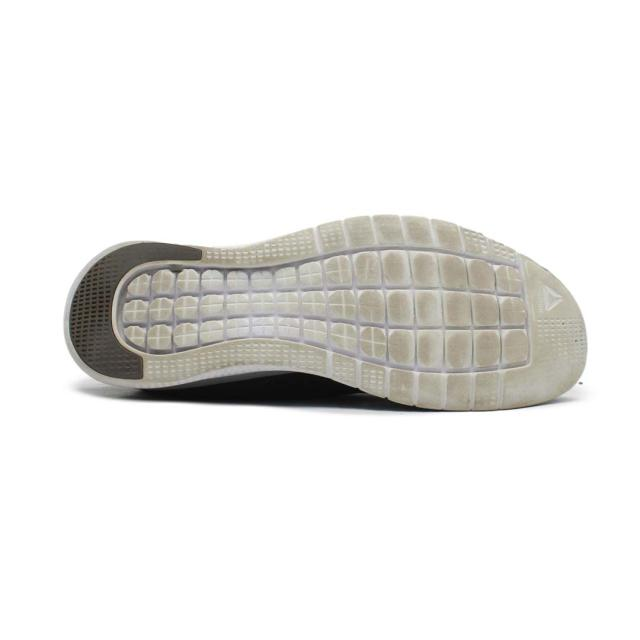outersole: (62, 212, 586, 408)
